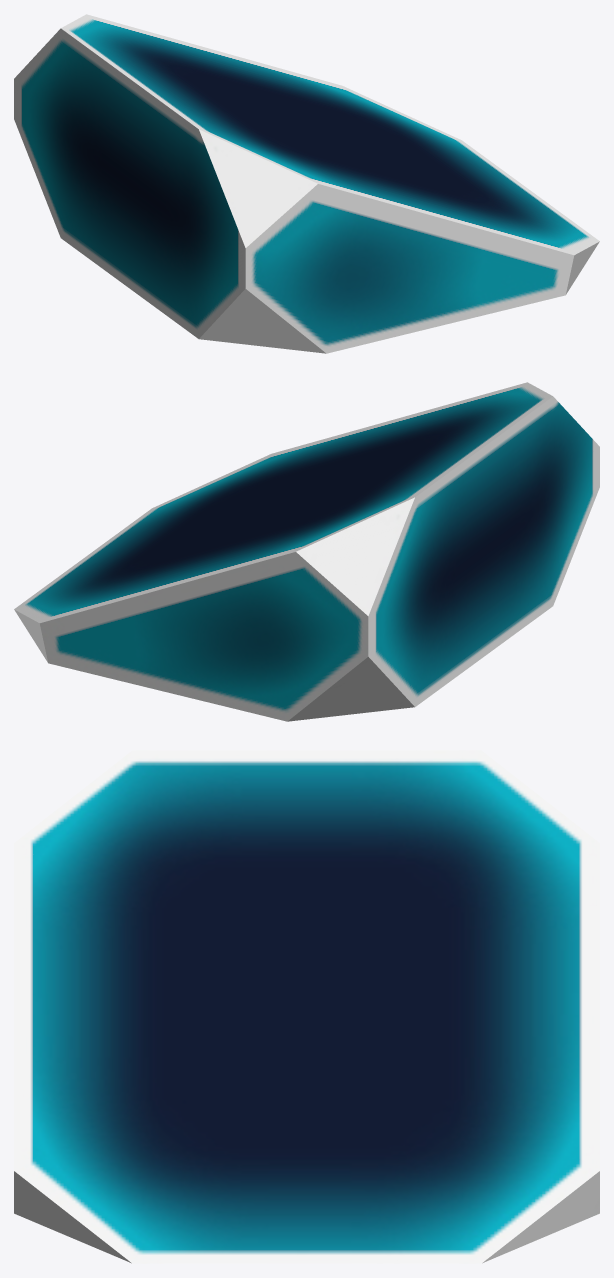
Rendered from MG-ChJ-CS-04BianPo-1.FBX.
The picture shows the model from 3 angles, top to bottom: view 1: azimuth 30°, elevation 25°; view 2: azimuth 150°, elevation 25°; view 3: azimuth 270°, elevation 25°; orthographic projection. The views are drawn at different scales.
Visible parts, largest first — view 1: MG-ChJ-CS-04BianPo-1; view 2: MG-ChJ-CS-04BianPo-1; view 3: MG-ChJ-CS-04BianPo-1.
Boxes of the visible parts, x1,y1,x2,y2 form: MG-ChJ-CS-04BianPo-1: [14, 14, 599, 353]; MG-ChJ-CS-04BianPo-1: [14, 382, 599, 721]; MG-ChJ-CS-04BianPo-1: [14, 750, 599, 1263].
Bounding box in the file's own units: 39.37 × 19.69 × 39.37.
